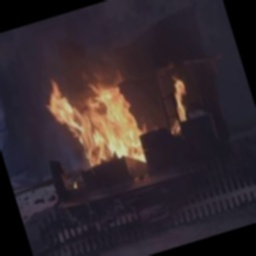fire: (28, 21, 214, 199)
